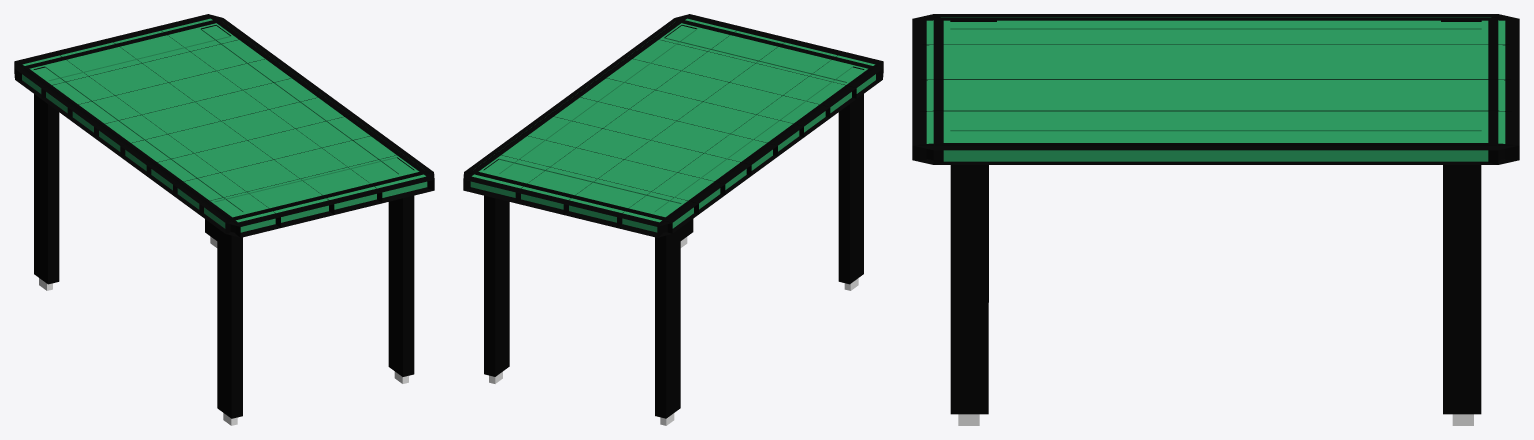
3 views of the same model, side by side, from view 1: azimuth 30°, elevation 25°; view 2: azimuth 150°, elevation 25°; view 3: azimuth 270°, elevation 25° (orthographic). The views are drawn at different scales.
Parts seen in each view (by area): view 1: glass; view 2: glass; view 3: glass.
Boxes of the visible parts, box(x1,y1,x2,y2) form: glass: box(14, 14, 434, 425); glass: box(463, 14, 883, 425); glass: box(912, 14, 1519, 425).
Bounding box in the file's own units: 4.33 × 4.26 × 8.14.
